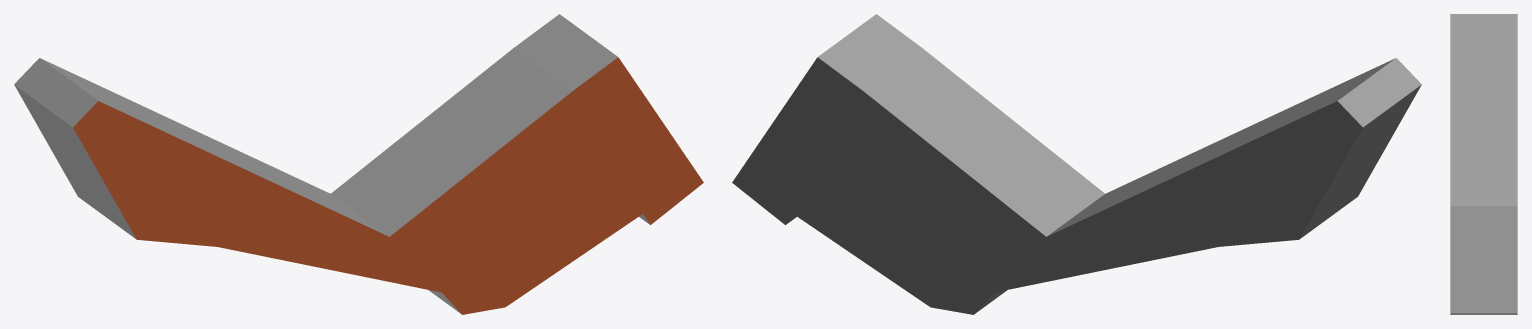
The model's file is construction_2616_assumed_A_Casa_h6m.obj.
3 renders of one model, left to right at view 1: azimuth 30°, elevation 25°; view 2: azimuth 150°, elevation 25°; view 3: azimuth 270°, elevation 25°, orthographic. The views are drawn at different scales.
Visible parts, largest first — view 1: construction_2616_assumed_A_Casa; view 2: construction_2616_assumed_A_Casa; view 3: construction_2616_assumed_A_Casa.
Part boxes in pixels (box(x1,y1,x2,y2)): construction_2616_assumed_A_Casa: box(14, 14, 703, 314); construction_2616_assumed_A_Casa: box(732, 14, 1421, 314); construction_2616_assumed_A_Casa: box(1450, 14, 1517, 314).
Bounding box in the file's own units: 37.08 × 17.17 × 6.
